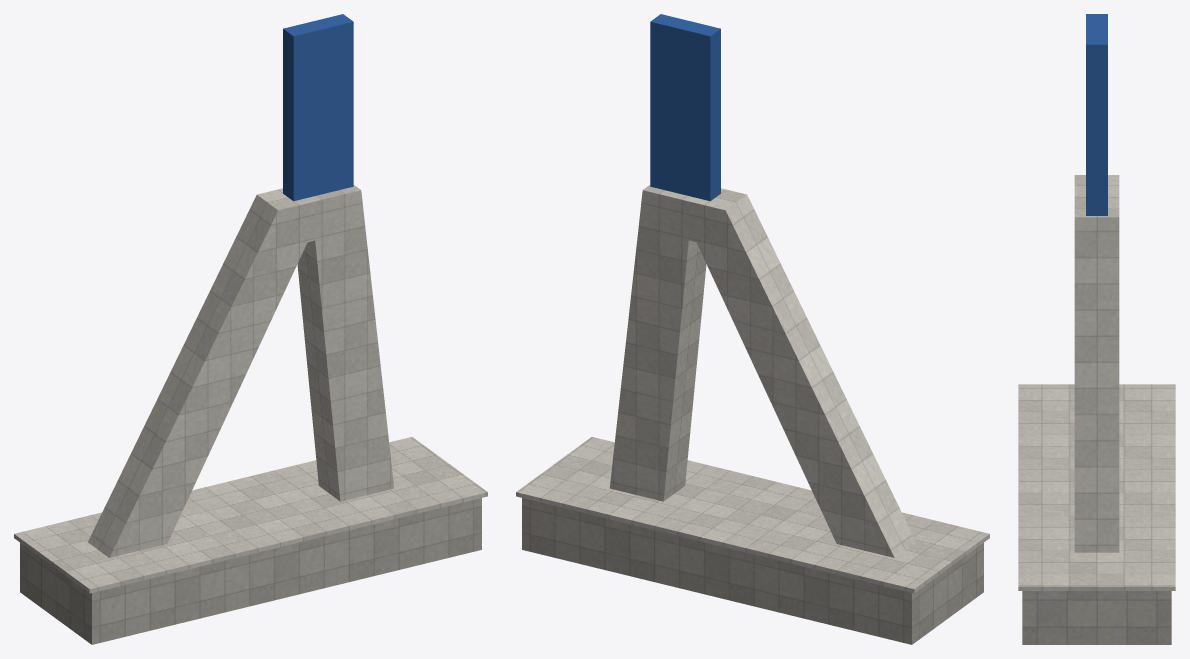
The picture shows the model from 3 angles, left to right: view 1: azimuth 30°, elevation 25°; view 2: azimuth 150°, elevation 25°; view 3: azimuth 270°, elevation 25°; orthographic projection. The views are drawn at different scales.
Visible parts, largest first — view 1: mainGate__granite_light, mainGate__granite_base, mainGate__uos_blue; view 2: mainGate__granite_light, mainGate__granite_base, mainGate__uos_blue; view 3: mainGate__granite_light, mainGate__granite_base, mainGate__uos_blue.
Boxes of the visible parts, x1,y1,x2,y2 form: mainGate__granite_light: [14, 185, 487, 593]; mainGate__granite_base: [20, 498, 481, 644]; mainGate__uos_blue: [283, 14, 353, 201]; mainGate__granite_light: [516, 185, 989, 593]; mainGate__granite_base: [522, 498, 983, 644]; mainGate__uos_blue: [650, 14, 720, 201]; mainGate__granite_light: [1018, 175, 1175, 590]; mainGate__granite_base: [1022, 591, 1171, 644]; mainGate__uos_blue: [1086, 14, 1107, 215].
Bounding box in the file's own units: 9.6 × 12.2 × 3.16.
3 materials, 2 textured.
